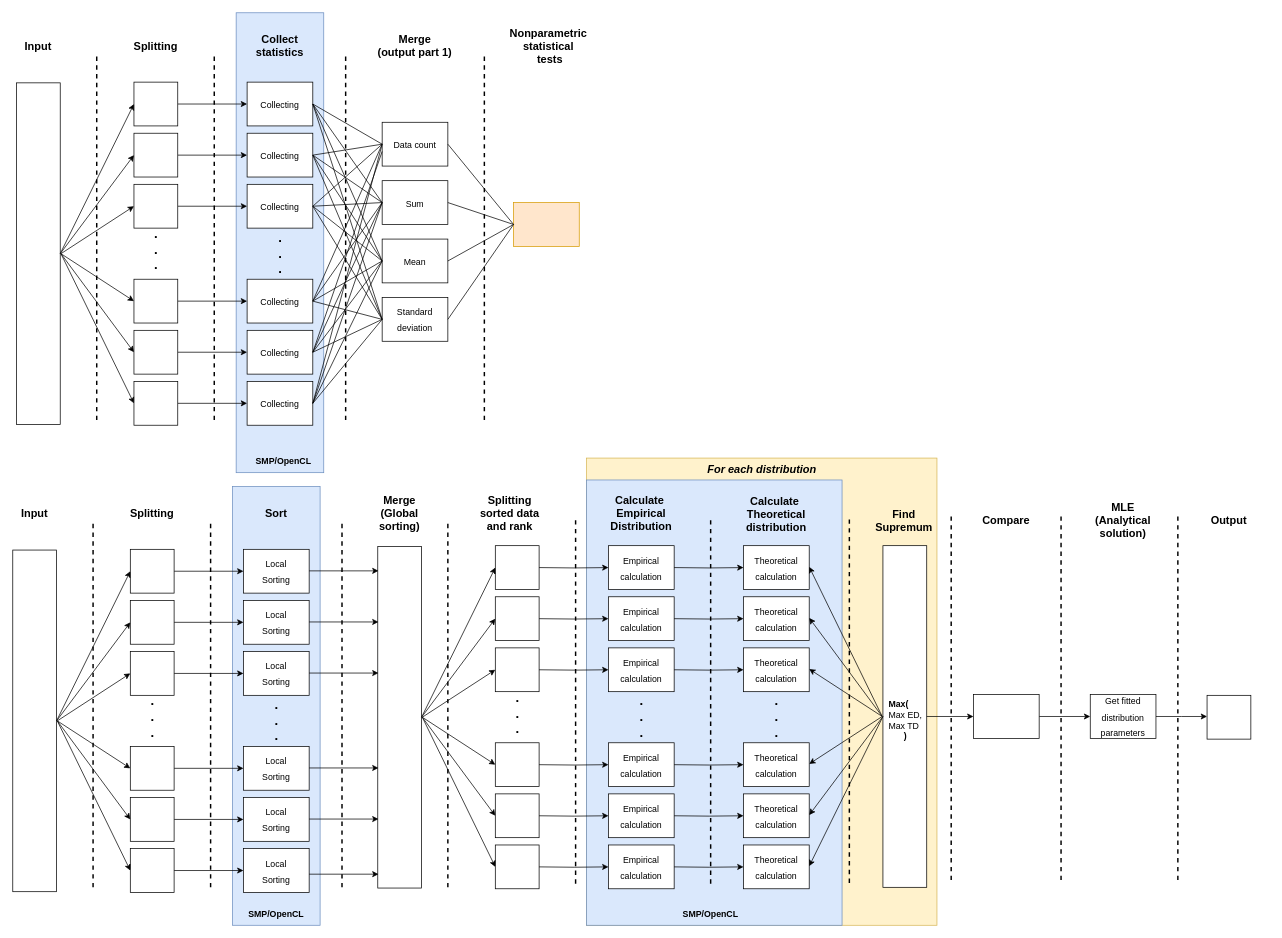
Some shapes in this 1282 by 938 pixel diagram are drawn without their labels. Each missing label, with the box of its shape:
Best fitted distribution: (973, 694, 1039, 738)
Test for distribution: (513, 202, 579, 246)
